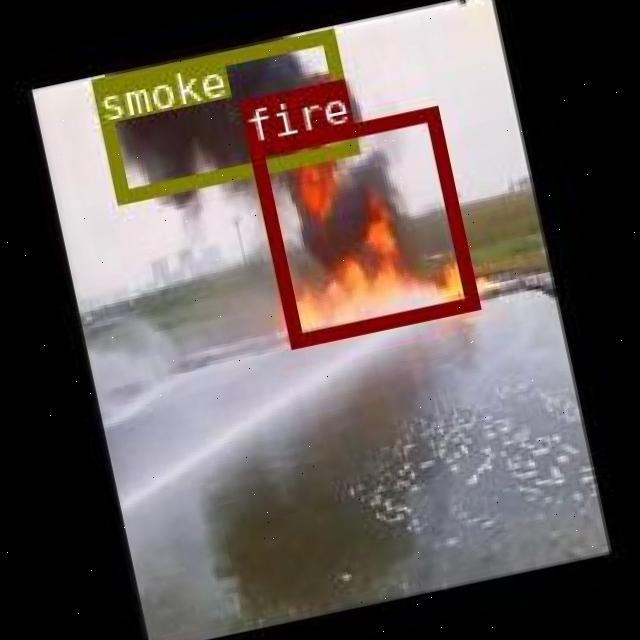fire: (246, 106, 477, 347)
smoke: (88, 27, 356, 202)
